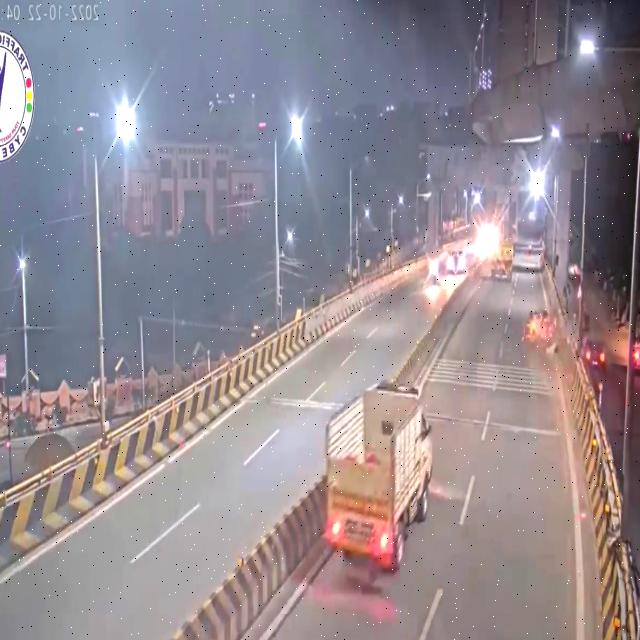accident: (520, 306, 570, 360)
